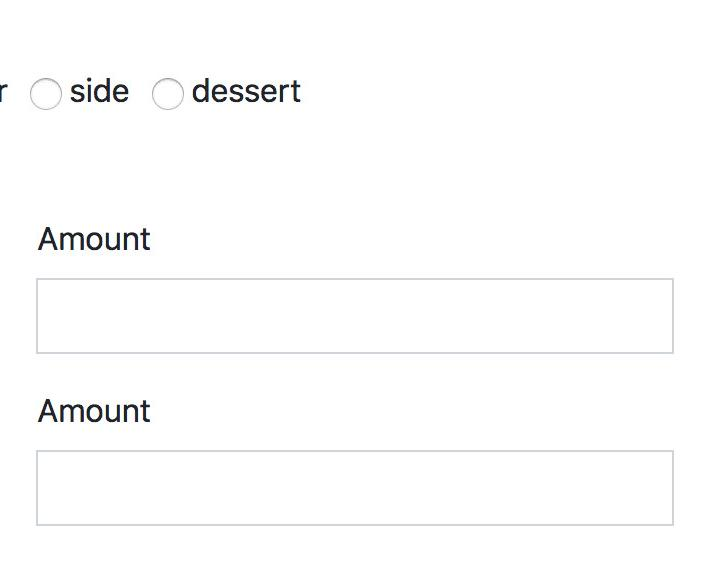field: (26, 442, 680, 529), (28, 274, 684, 356)
field_with_label: (21, 225, 694, 367), (20, 396, 685, 536)
radio: (150, 78, 199, 115), (25, 76, 68, 117)
radio_with_label: (141, 70, 296, 120), (18, 70, 125, 125)
